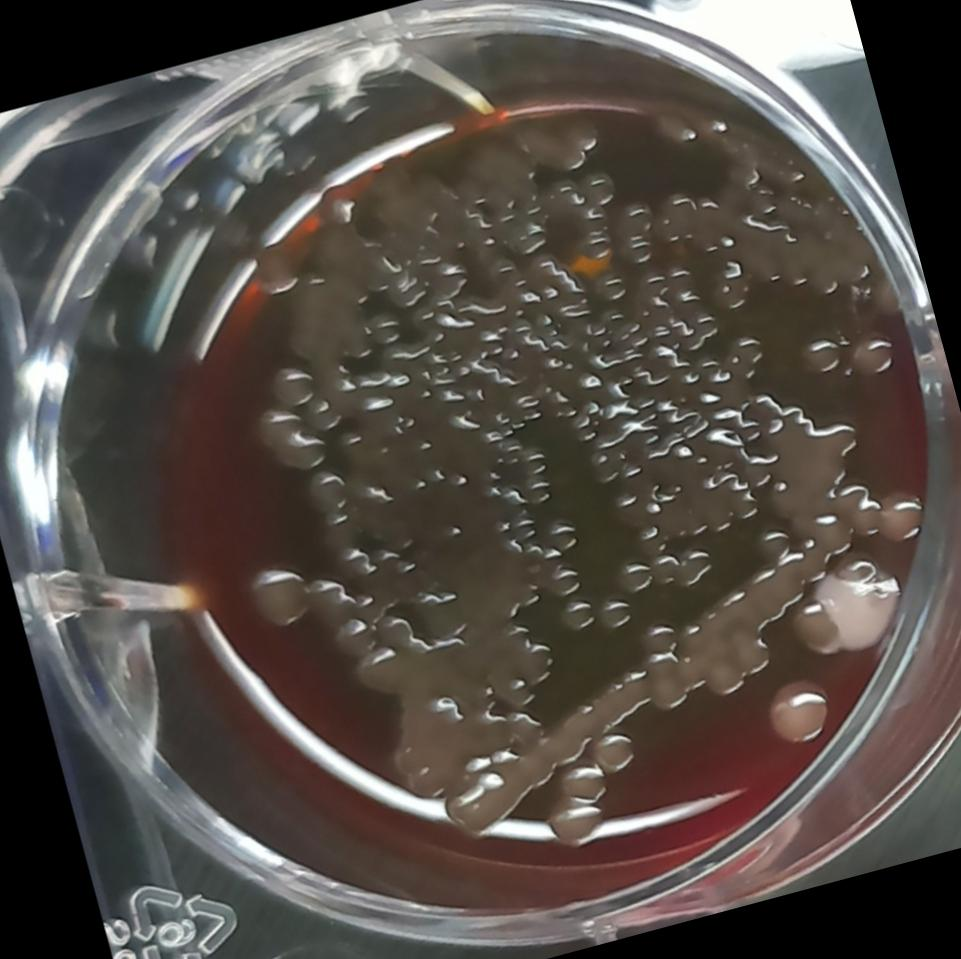vangil: (621, 534, 858, 720), (235, 547, 320, 642)
